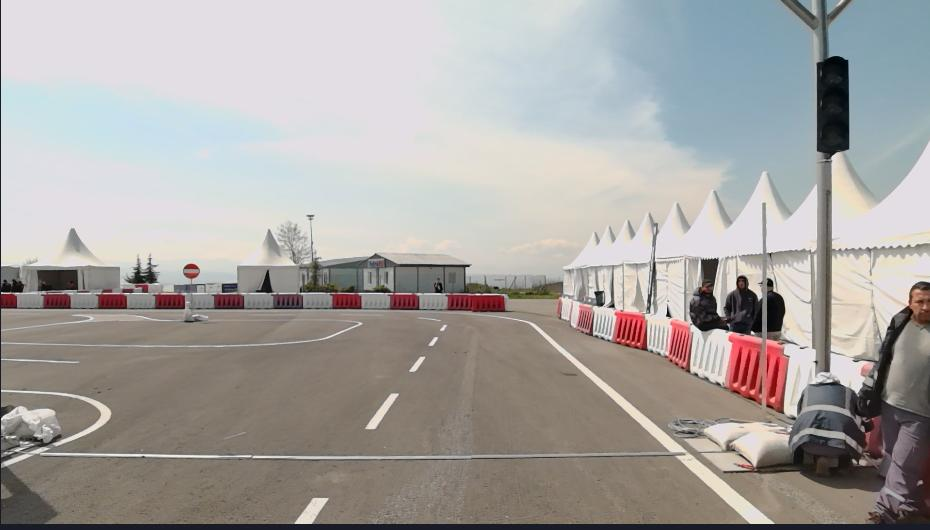nesne: (0, 306, 787, 528), (154, 307, 782, 526), (0, 312, 450, 526), (473, 311, 777, 525), (552, 292, 815, 416), (861, 282, 930, 529), (0, 292, 512, 311), (0, 388, 111, 471), (2, 320, 363, 345), (789, 370, 865, 475), (781, 344, 868, 416), (727, 332, 788, 413), (704, 421, 794, 470), (688, 326, 731, 391), (723, 272, 761, 333), (754, 277, 786, 340), (688, 279, 726, 331), (363, 391, 400, 430), (644, 313, 672, 361), (614, 309, 646, 350), (666, 319, 690, 369), (290, 495, 329, 524), (448, 292, 506, 310), (592, 307, 616, 344), (73, 311, 141, 323), (560, 297, 580, 328), (575, 303, 594, 335), (97, 290, 126, 309), (154, 293, 186, 310), (186, 291, 216, 309), (331, 291, 361, 309), (389, 292, 419, 310), (272, 291, 303, 308), (41, 291, 70, 309), (359, 292, 391, 308), (242, 292, 272, 309), (418, 293, 448, 310), (0, 357, 84, 363), (303, 291, 332, 308), (69, 292, 99, 308), (214, 292, 244, 308), (126, 292, 155, 308), (406, 352, 428, 373), (15, 293, 42, 309), (182, 262, 200, 280), (0, 292, 17, 308), (502, 294, 517, 311), (433, 277, 445, 293), (426, 334, 440, 347), (555, 296, 562, 319), (0, 277, 11, 291), (11, 278, 20, 291), (437, 323, 447, 333)
